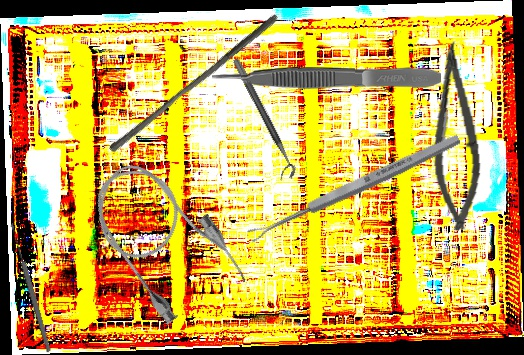Cannula: (74, 142, 254, 335)
Fixation Ring: (222, 57, 300, 184)
Micro Scissor: (421, 39, 488, 233)
Pusher: (107, 6, 280, 160)
Surgical Spoon: (245, 131, 463, 244), (8, 221, 53, 354)
Tissue Forceps: (211, 63, 442, 91)
